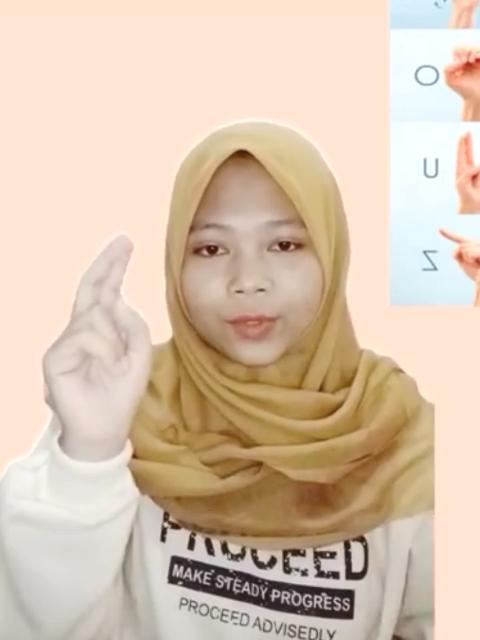U: (27, 225, 167, 443)
